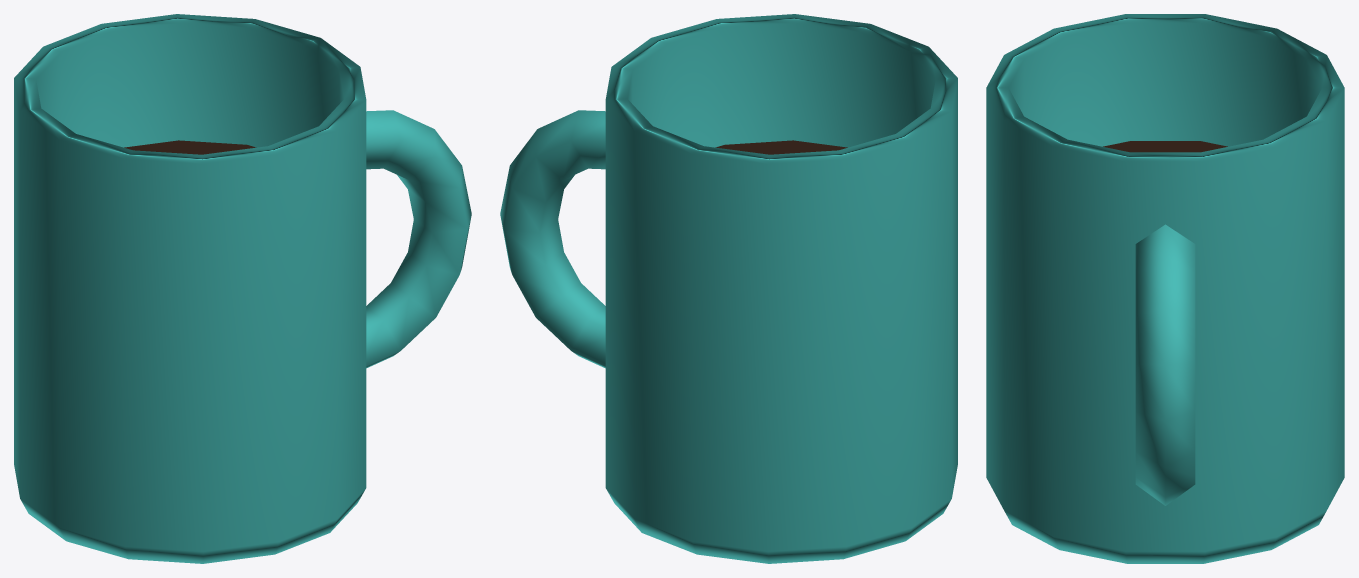
Rendered from caneca.glb.
The picture shows the model from 3 angles, left to right: view 1: azimuth 30°, elevation 25°; view 2: azimuth 150°, elevation 25°; view 3: azimuth 270°, elevation 25°; orthographic projection.
Parts seen in each view (by area): view 1: caneca_malha; view 2: caneca_malha; view 3: caneca_malha.
Part boxes in pixels (x1,y1,x2,y2): caneca_malha: (14,14,471,563); caneca_malha: (500,14,957,563); caneca_malha: (986,14,1344,563).
Size of the model in its own units: 0.112 by 0.1 by 0.08.
